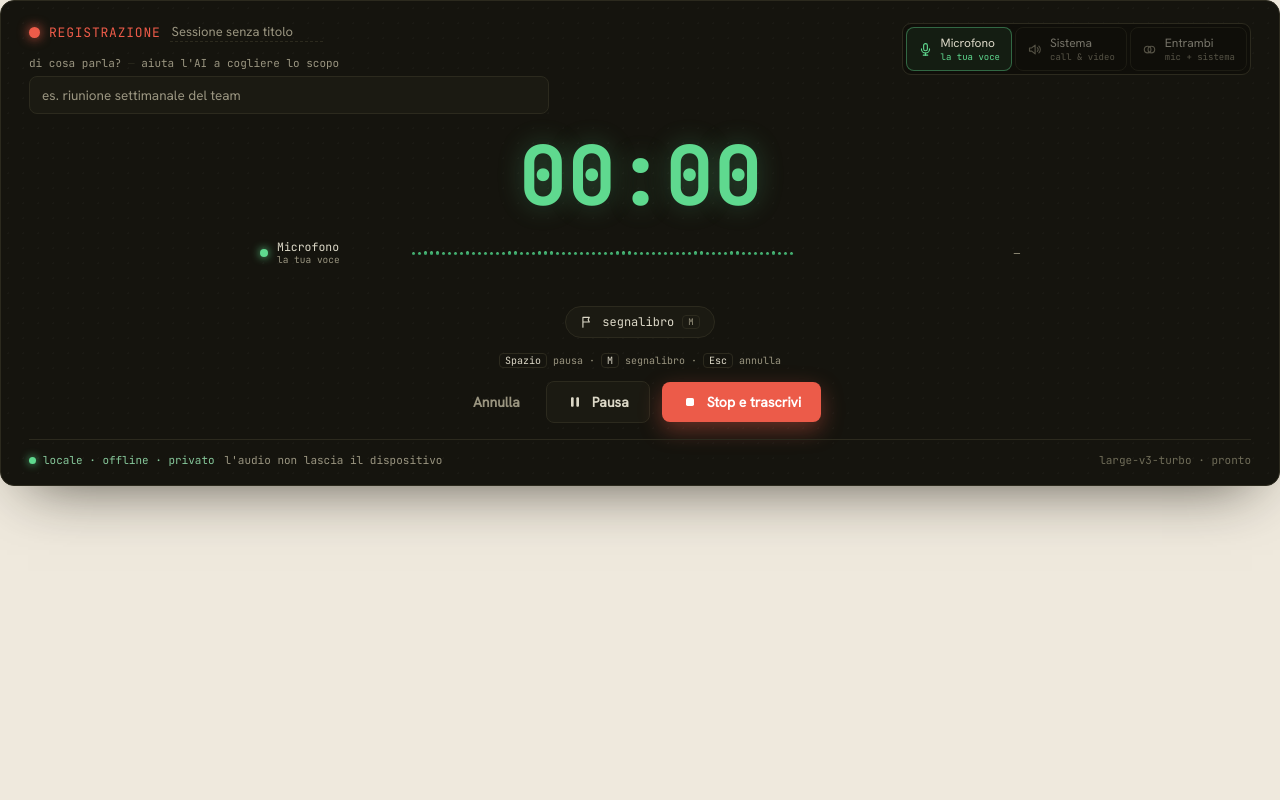
Test: ScreenLive › clicca Pausa → chiama pauseRecording e il bottone diventa 'Riprendi'
Click the button "Pausa".
click(598, 402)  # box [546,381,650,423]
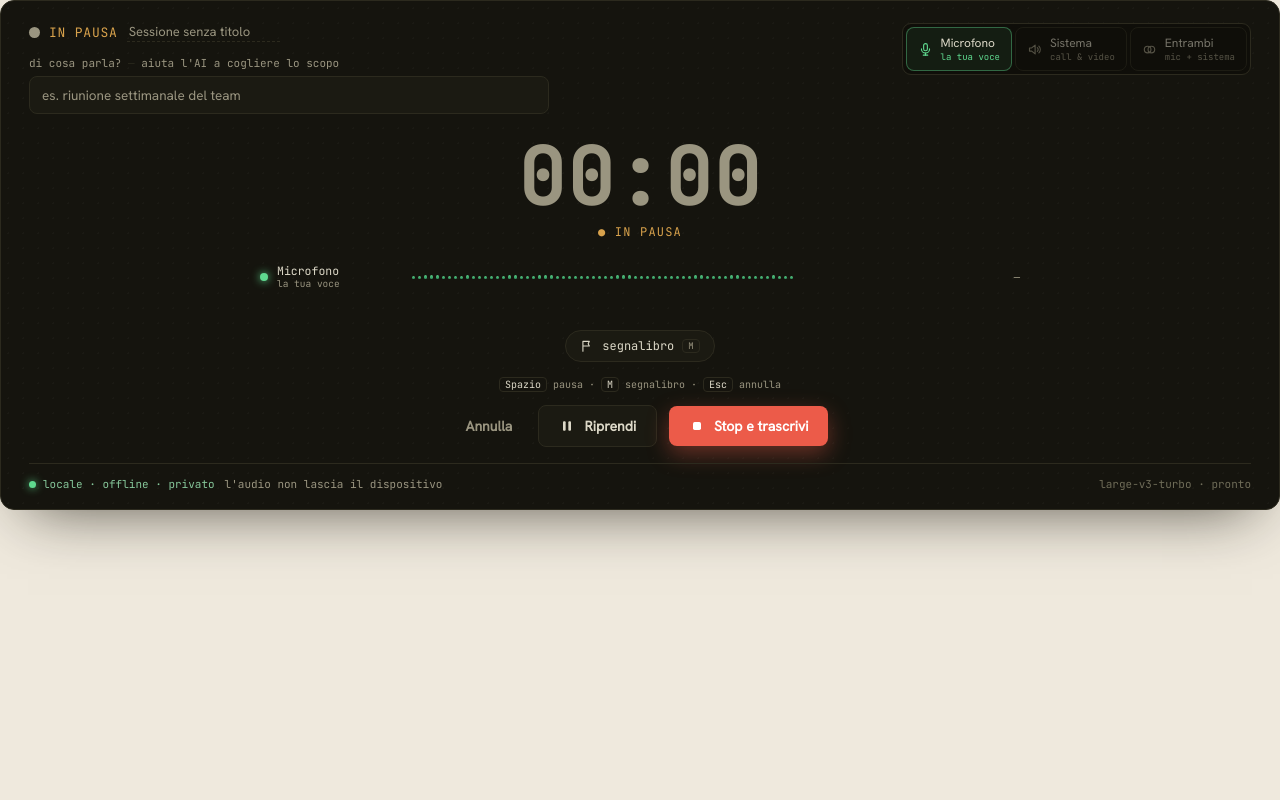
expect the button "Riprendi" is shown: met, box [538,405,657,447]
